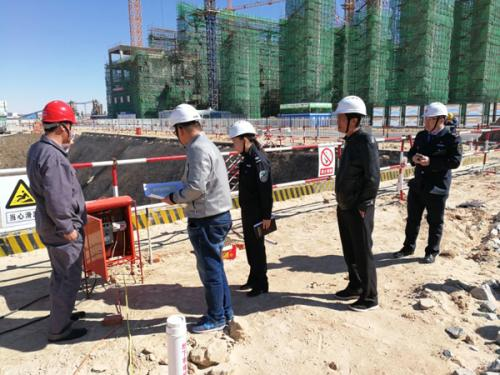boots: (47, 327, 87, 342), (191, 317, 225, 333), (348, 298, 379, 310), (334, 287, 362, 300), (393, 246, 414, 257), (247, 287, 268, 297), (423, 252, 438, 263), (70, 309, 84, 320), (236, 284, 253, 291)
hard-hat: (167, 102, 202, 128), (41, 100, 77, 124), (331, 94, 367, 115), (227, 119, 257, 138), (423, 101, 448, 117)
person: (160, 103, 235, 334), (26, 100, 88, 343), (393, 100, 461, 262), (331, 95, 381, 312), (226, 120, 275, 297)
ppe-suit: (25, 135, 89, 338)
